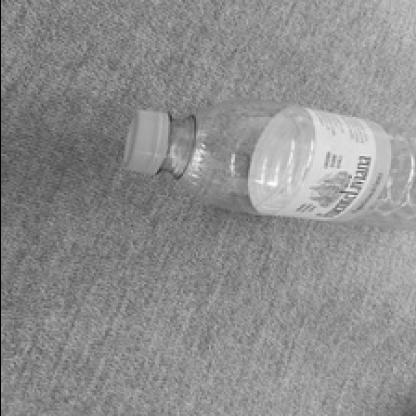plastic_bottles: (123, 107, 416, 232)
